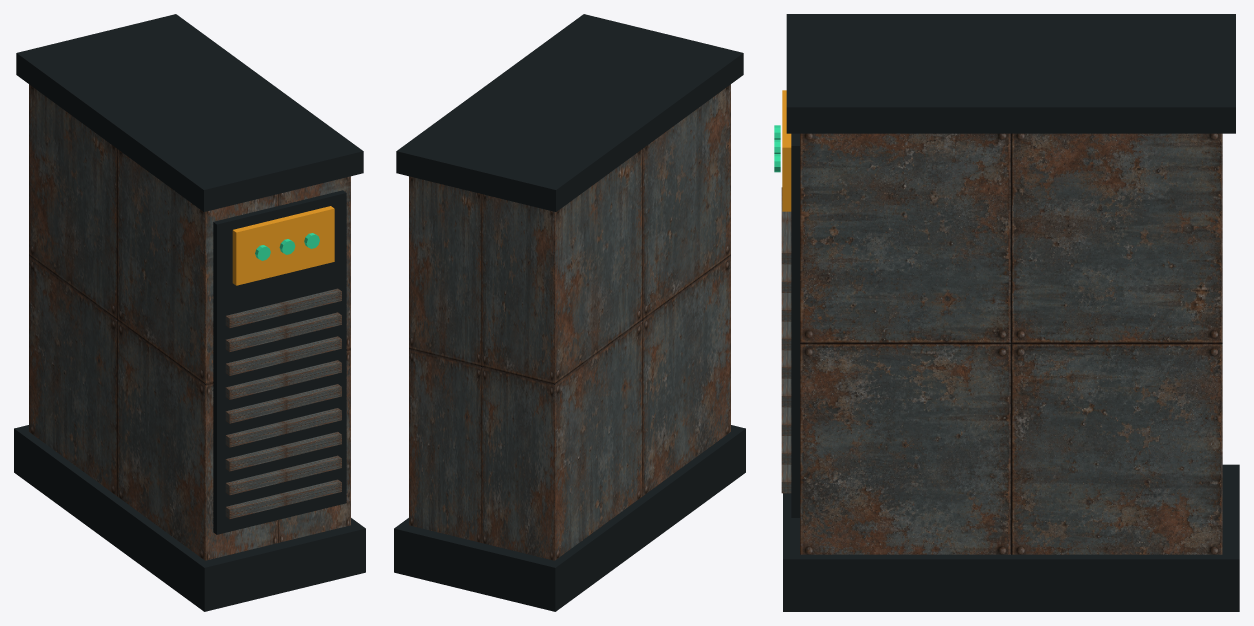
File: GeneratorBank.obj
3 renders of one model, left to right at view 1: azimuth 30°, elevation 25°; view 2: azimuth 150°, elevation 25°; view 3: azimuth 270°, elevation 25°, orthographic. The views are drawn at different scales.
Visible parts, largest first — view 1: GeneratorBank; view 2: GeneratorBank; view 3: GeneratorBank.
Part boxes in pixels (x1,y1,x2,y2): GeneratorBank: (14, 14, 365, 611); GeneratorBank: (394, 14, 745, 611); GeneratorBank: (774, 14, 1239, 611).
Bounding box in the file's own units: 0.92 × 2.29 × 1.92.
4 materials, 1 textured.
